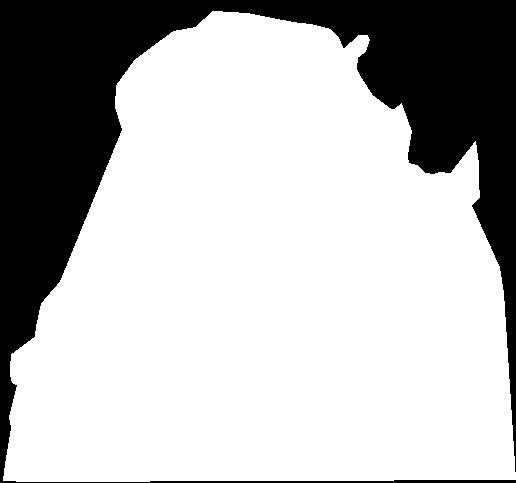Fire: (274, 29, 493, 483)
